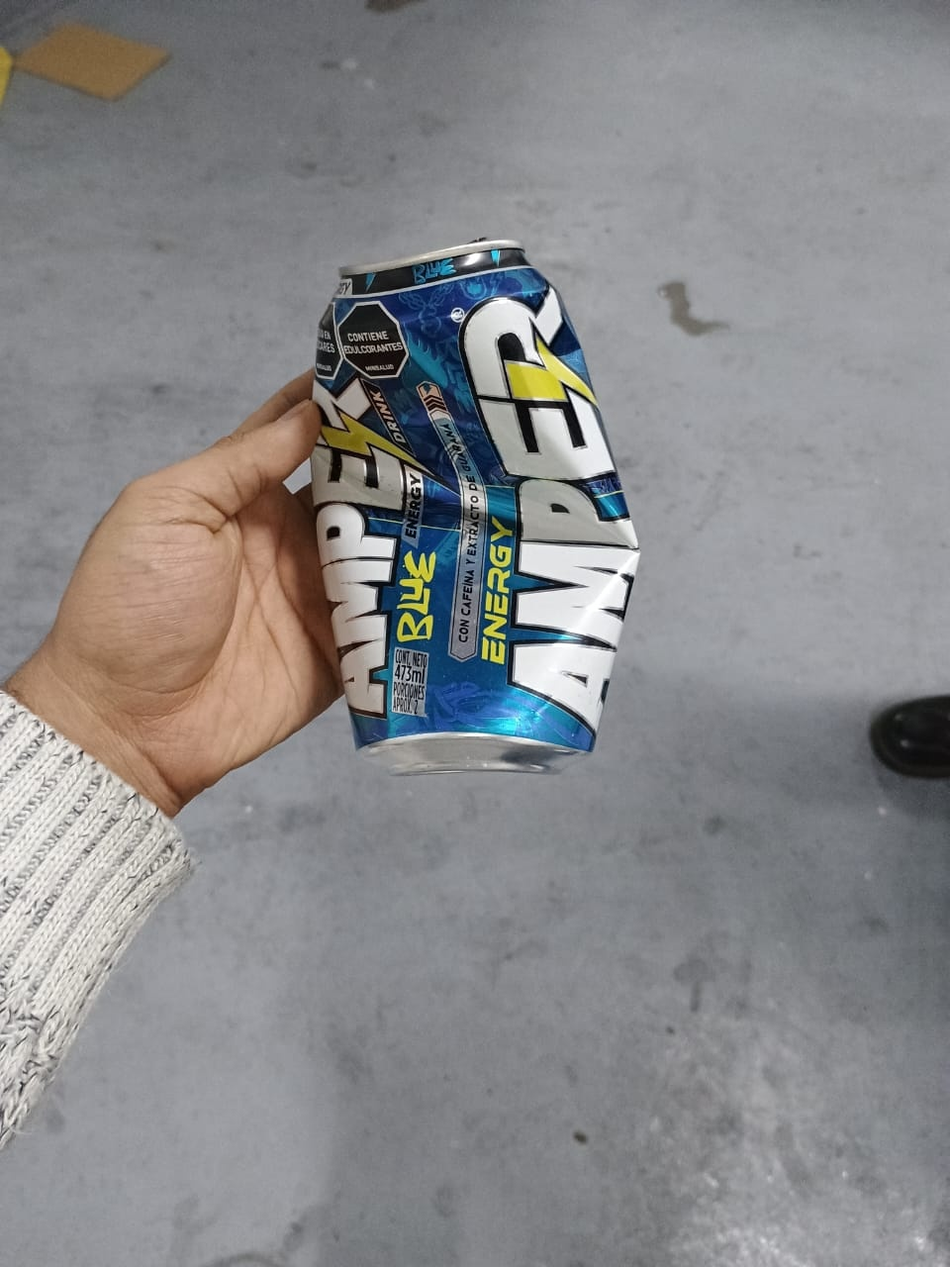Metal: (309, 235, 640, 779), (465, 233, 472, 240)
